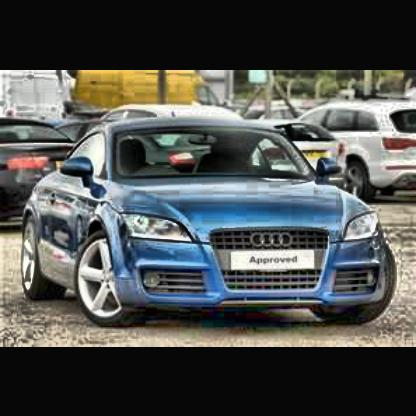Audi TT Hatchback 2011: (19, 110, 399, 332)
